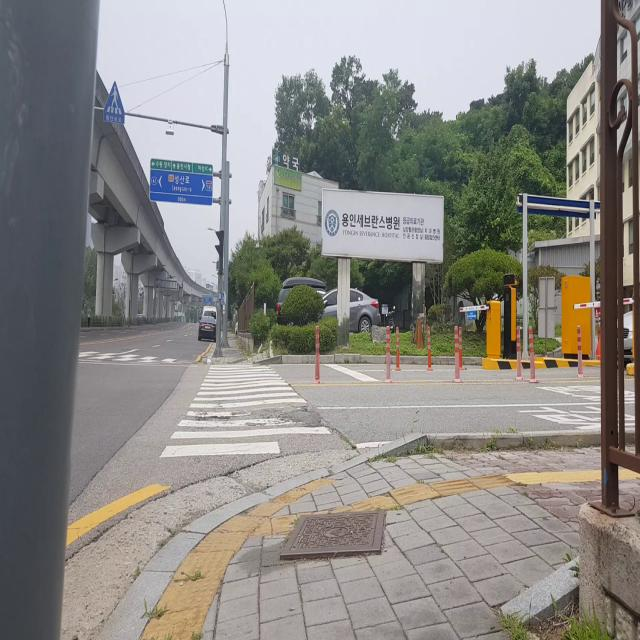횡단보도: (157, 362, 334, 460), (78, 349, 175, 366)
